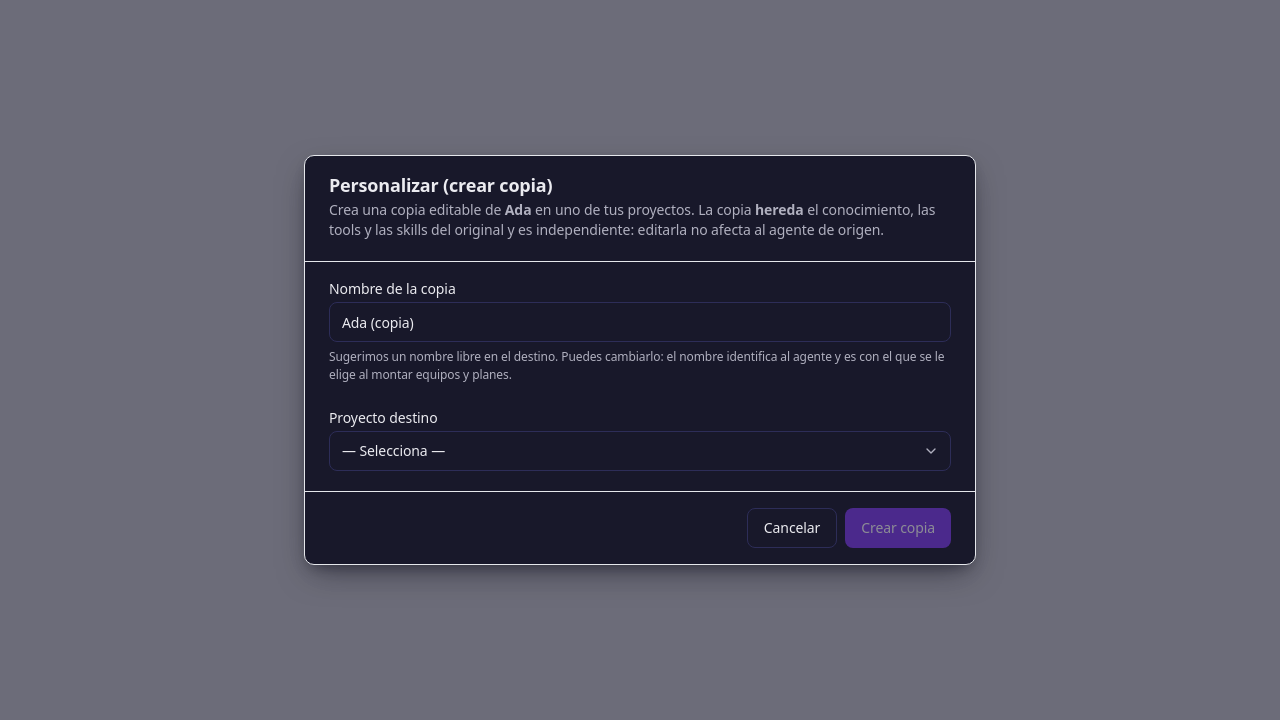
Test: colisión de nombre (409) › un error que NO es de nombre sigue saliendo traducido, no en crudo
Check: the field with test id "fork-agent-name" is shown, box left=329, top=302, right=951, bottom=342
Select "Proyecto Dos" in the dropdown with test id "fork-agent-project". click: (640, 451)
box: left=329, top=431, right=951, bottom=471
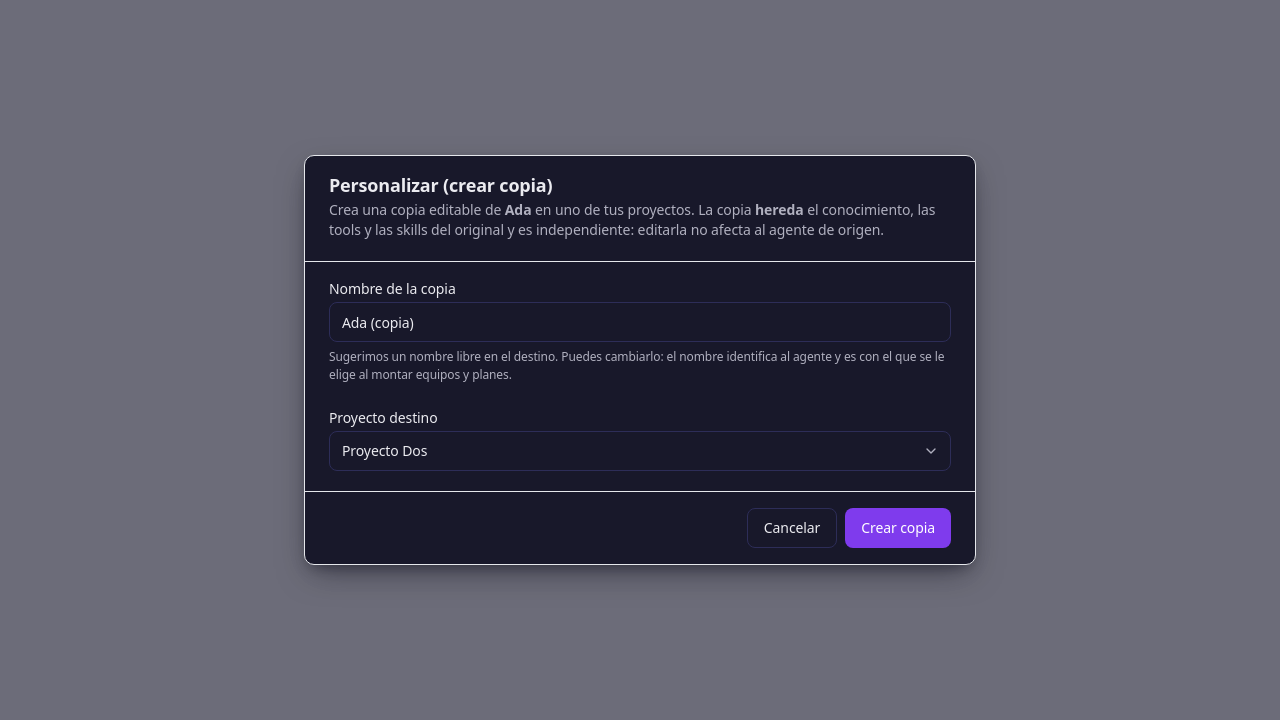
Click the button with test id "fork-agent-submit". click: click(898, 528)
box: left=845, top=508, right=951, bottom=548
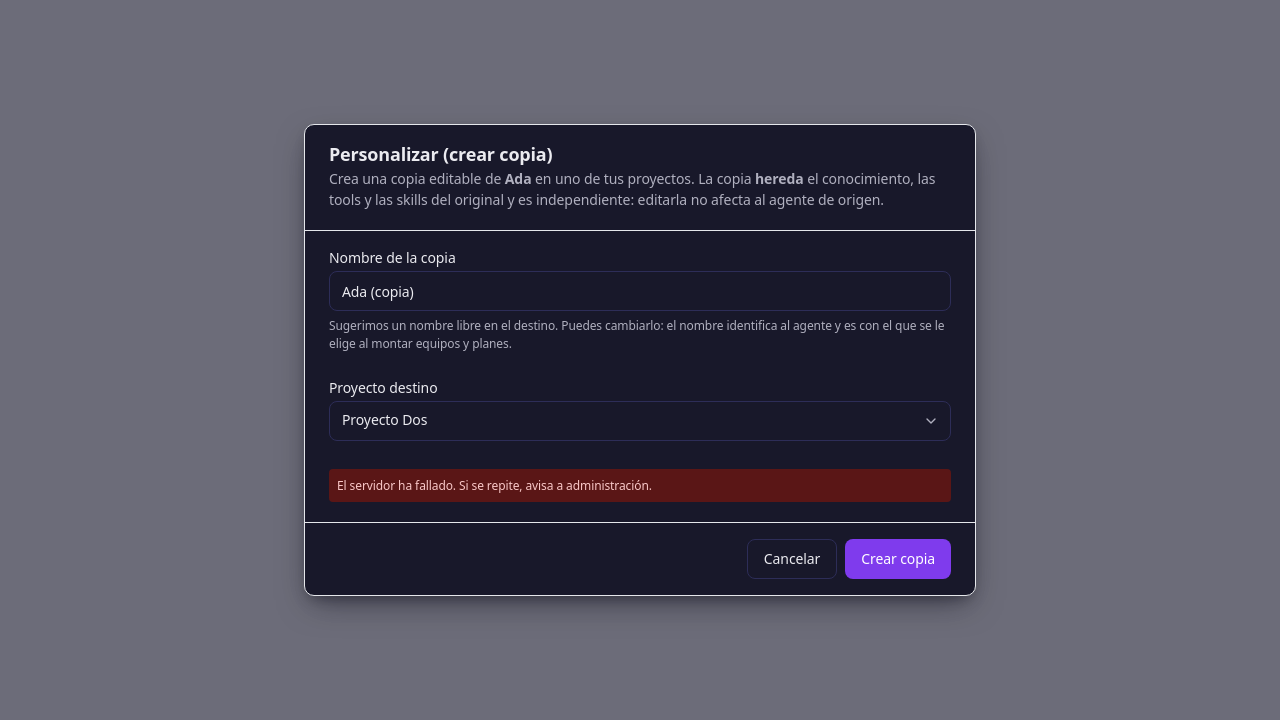
Check: the text with test id "fork-agent-error" reads "El servidor ha fallado. Si se repite, avisa a administración.", box left=337, top=477, right=652, bottom=494
